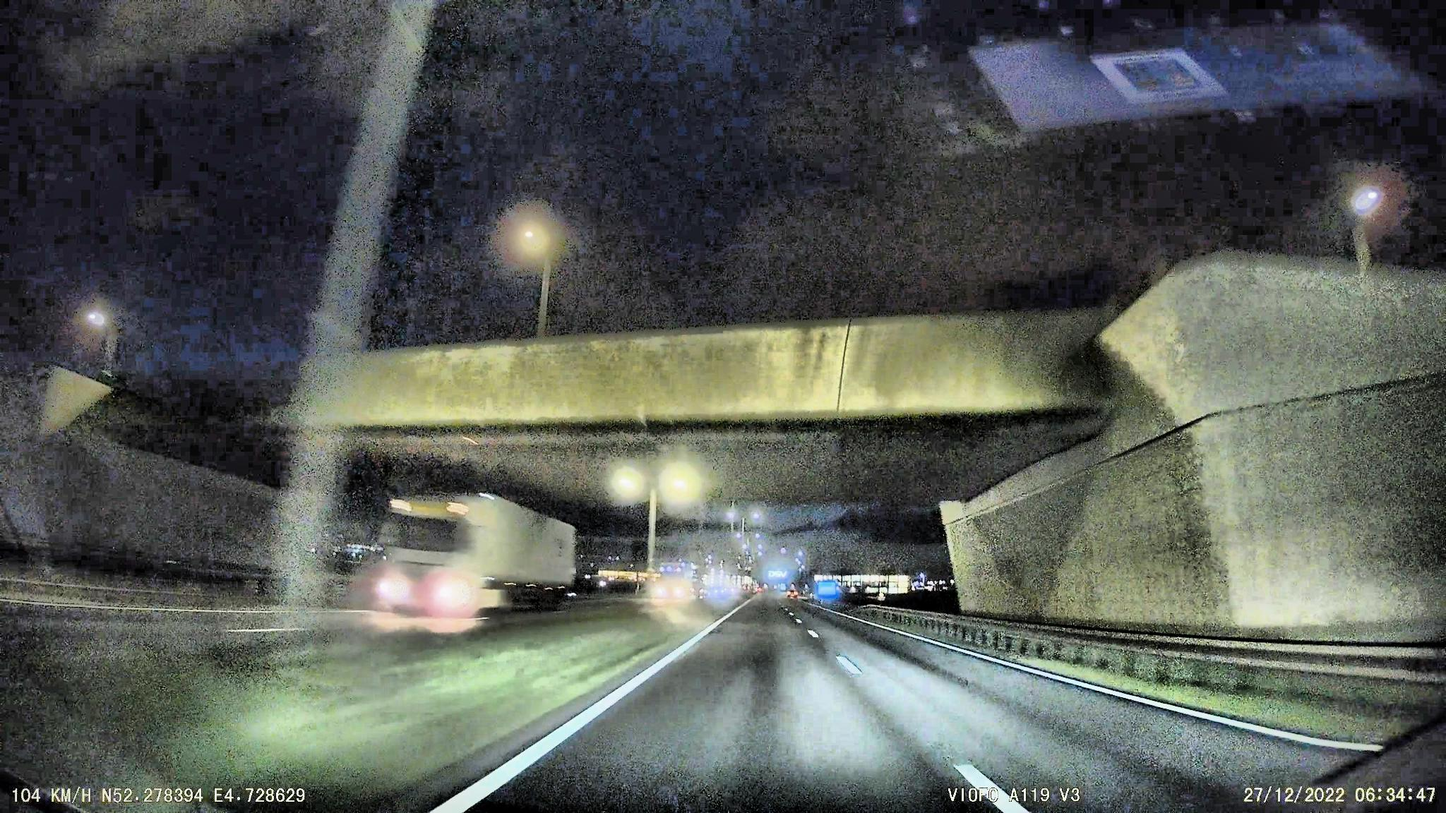Roads: (464, 606, 1356, 813)
